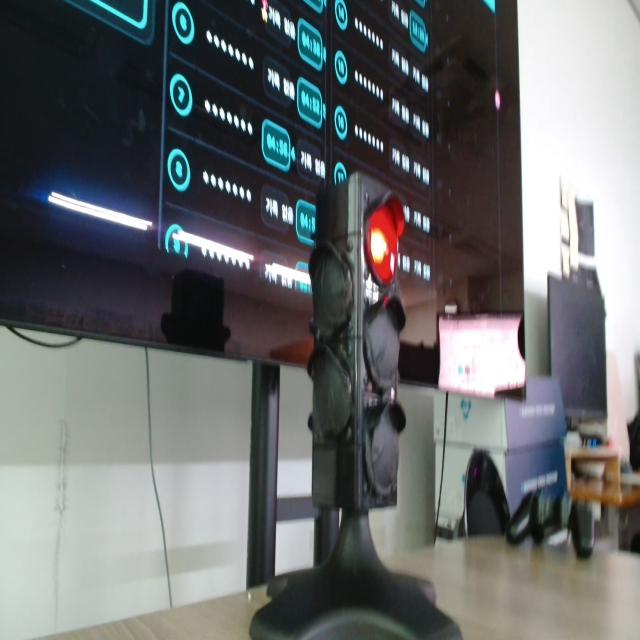red_light: (366, 203, 404, 286)
